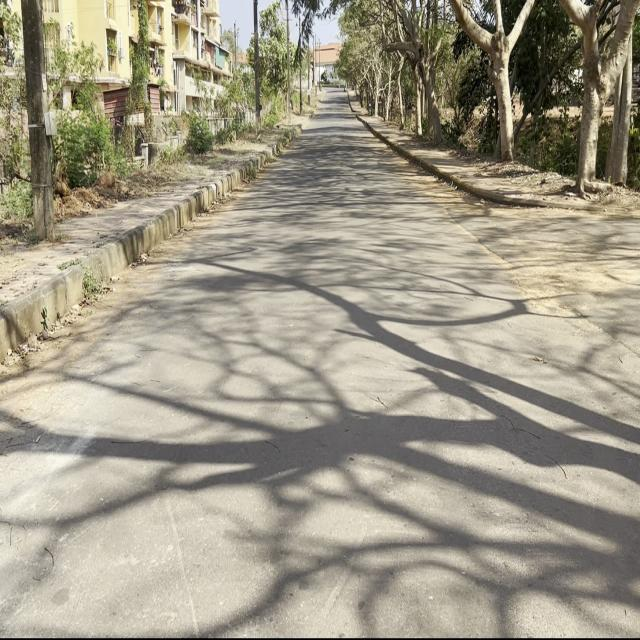Road: (3, 95, 635, 631)
